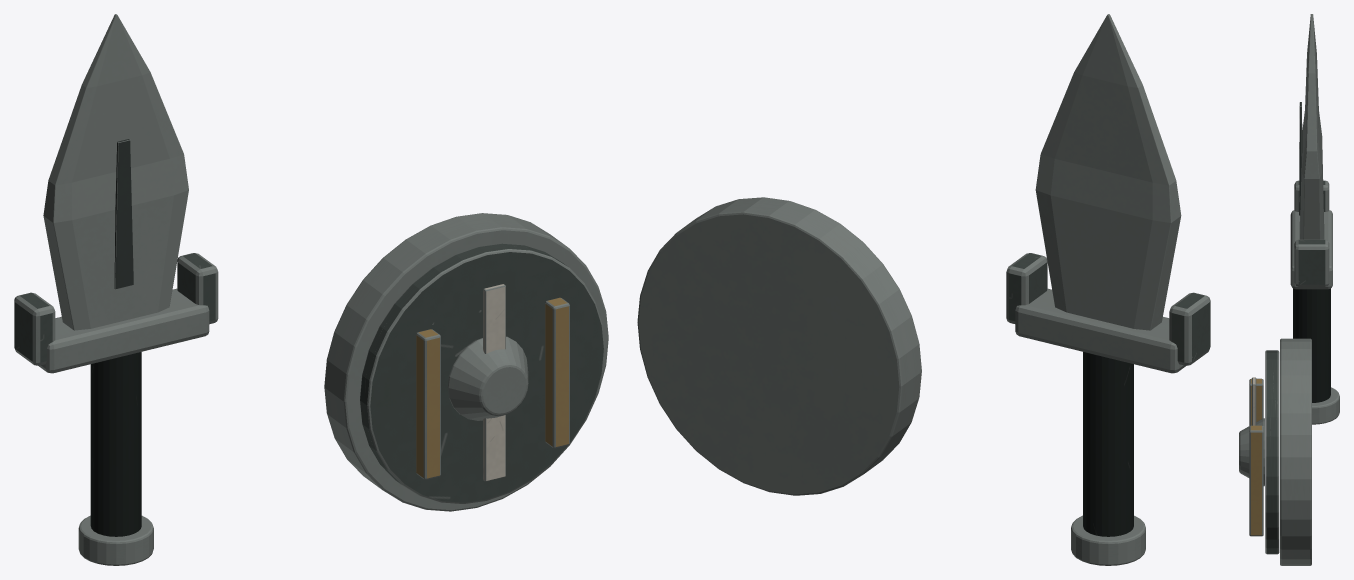
File: sword_shield-t4.glb
3 renders of one model, left to right at view 1: azimuth 30°, elevation 25°; view 2: azimuth 150°, elevation 25°; view 3: azimuth 270°, elevation 25°, orthographic. The views are drawn at different scales.
Visible parts, largest first — view 1: Buckler painted face, Forged blade, Buckler steel rim, Wrapped handle, Crossguard, Buckler central boss, Shield layered rib.001, Shield layered rib, Shield centre stripe, Central blade fuller, Weighted pommel, Guard return (+1 smaller); view 2: Buckler steel rim, Forged blade, Wrapped handle, Crossguard, Guard return, Weighted pommel, Guard return.001; view 3: Buckler steel rim, Forged blade, Wrapped handle, Buckler painted face, Guard return.001, Shield layered rib.001, Crossguard, Weighted pommel, Buckler central boss, Shield layered rib, Guard return, Central blade fuller (+1 smaller).
Boxes of the visible parts, bbox=[...] form: Buckler painted face: bbox=[360, 243, 604, 504]; Forged blade: bbox=[43, 14, 188, 330]; Buckler steel rim: bbox=[324, 213, 608, 511]; Wrapped handle: bbox=[90, 352, 141, 536]; Crossguard: bbox=[38, 288, 209, 373]; Buckler central boss: bbox=[447, 336, 528, 420]; Shield layered rib.001: bbox=[545, 297, 569, 448]; Shield layered rib: bbox=[416, 329, 440, 479]; Shield centre stripe: bbox=[483, 284, 505, 481]; Central blade fuller: bbox=[114, 139, 133, 289]; Weighted pommel: bbox=[78, 515, 153, 565]; Guard return: bbox=[14, 292, 55, 365]; Buckler steel rim: bbox=[637, 197, 921, 495]; Forged blade: bbox=[1035, 14, 1181, 330]; Wrapped handle: bbox=[1083, 352, 1133, 536]; Crossguard: bbox=[1015, 288, 1186, 373]; Guard return: bbox=[1169, 292, 1210, 365]; Weighted pommel: bbox=[1071, 515, 1145, 565]; Guard return.001: bbox=[1006, 253, 1047, 323]; Buckler steel rim: bbox=[1280, 338, 1311, 565]; Forged blade: bbox=[1299, 14, 1324, 239]; Wrapped handle: bbox=[1293, 288, 1330, 402]; Buckler painted face: bbox=[1265, 350, 1279, 554]; Guard return.001: bbox=[1294, 239, 1329, 286]; Shield layered rib.001: bbox=[1249, 425, 1263, 536]; Crossguard: bbox=[1290, 210, 1332, 289]; Weighted pommel: bbox=[1312, 387, 1339, 424]; Buckler central boss: bbox=[1239, 418, 1264, 486]; Shield layered rib: bbox=[1249, 378, 1263, 425]; Guard return: bbox=[1294, 180, 1329, 211]; Central blade fuller: bbox=[1299, 102, 1302, 215].
Bounding box in the file's own units: 1.66 × 1.58 × 0.346.
6 materials, 6 textured.
